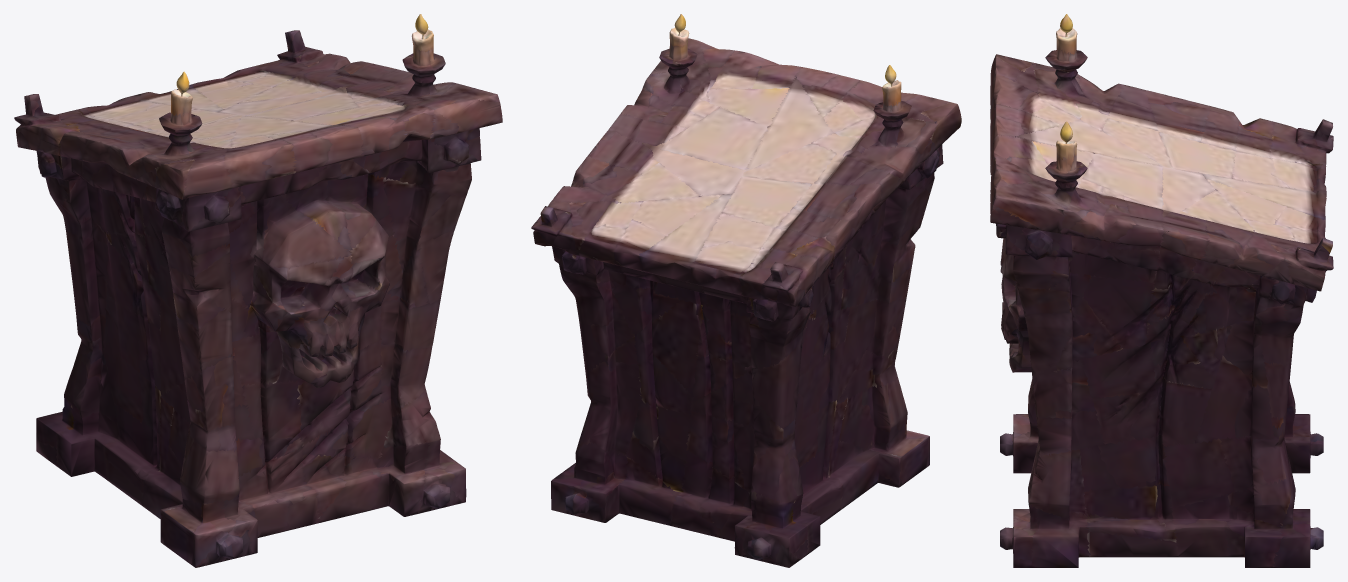
File: defense_podium.glb
The picture shows the model from 3 angles, left to right: view 1: azimuth 30°, elevation 25°; view 2: azimuth 150°, elevation 25°; view 3: azimuth 270°, elevation 25°; orthographic projection. The views are drawn at different scales.
Bounding box in the file's own units: 1.35 × 1.9 × 1.35.
1 material, 1 textured.
